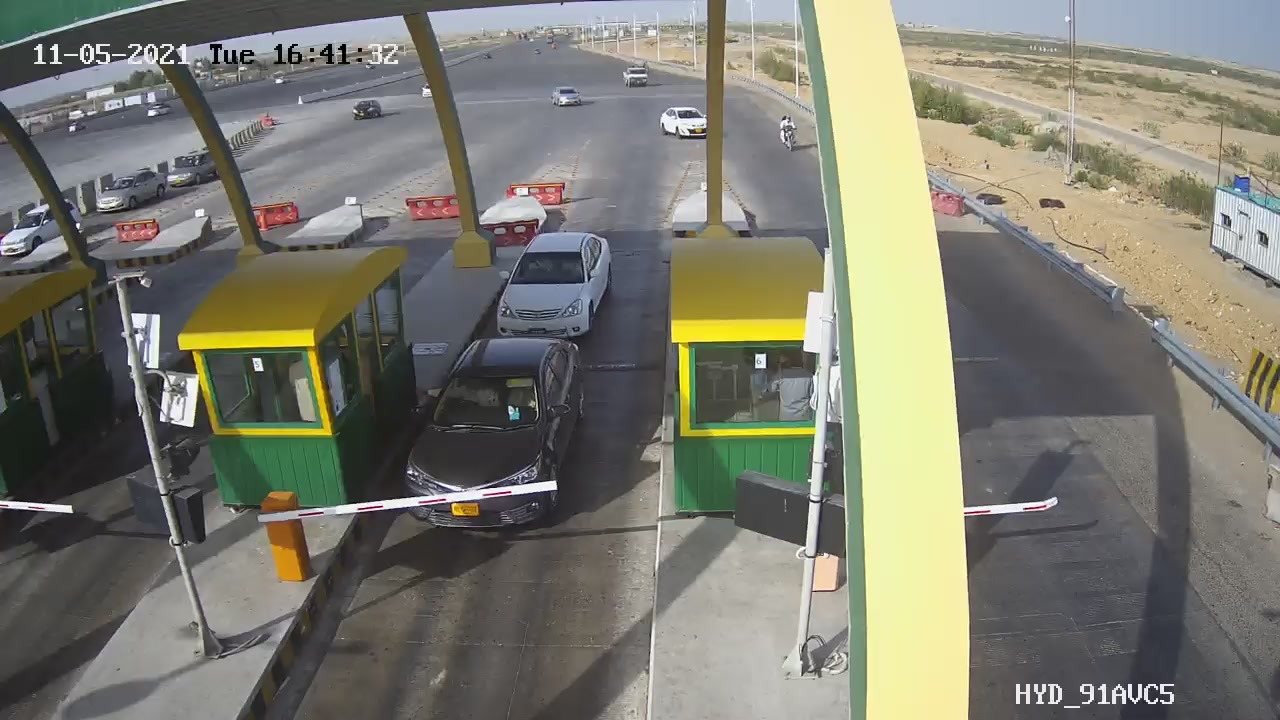F1: (380, 320, 627, 556), (479, 218, 640, 349)
